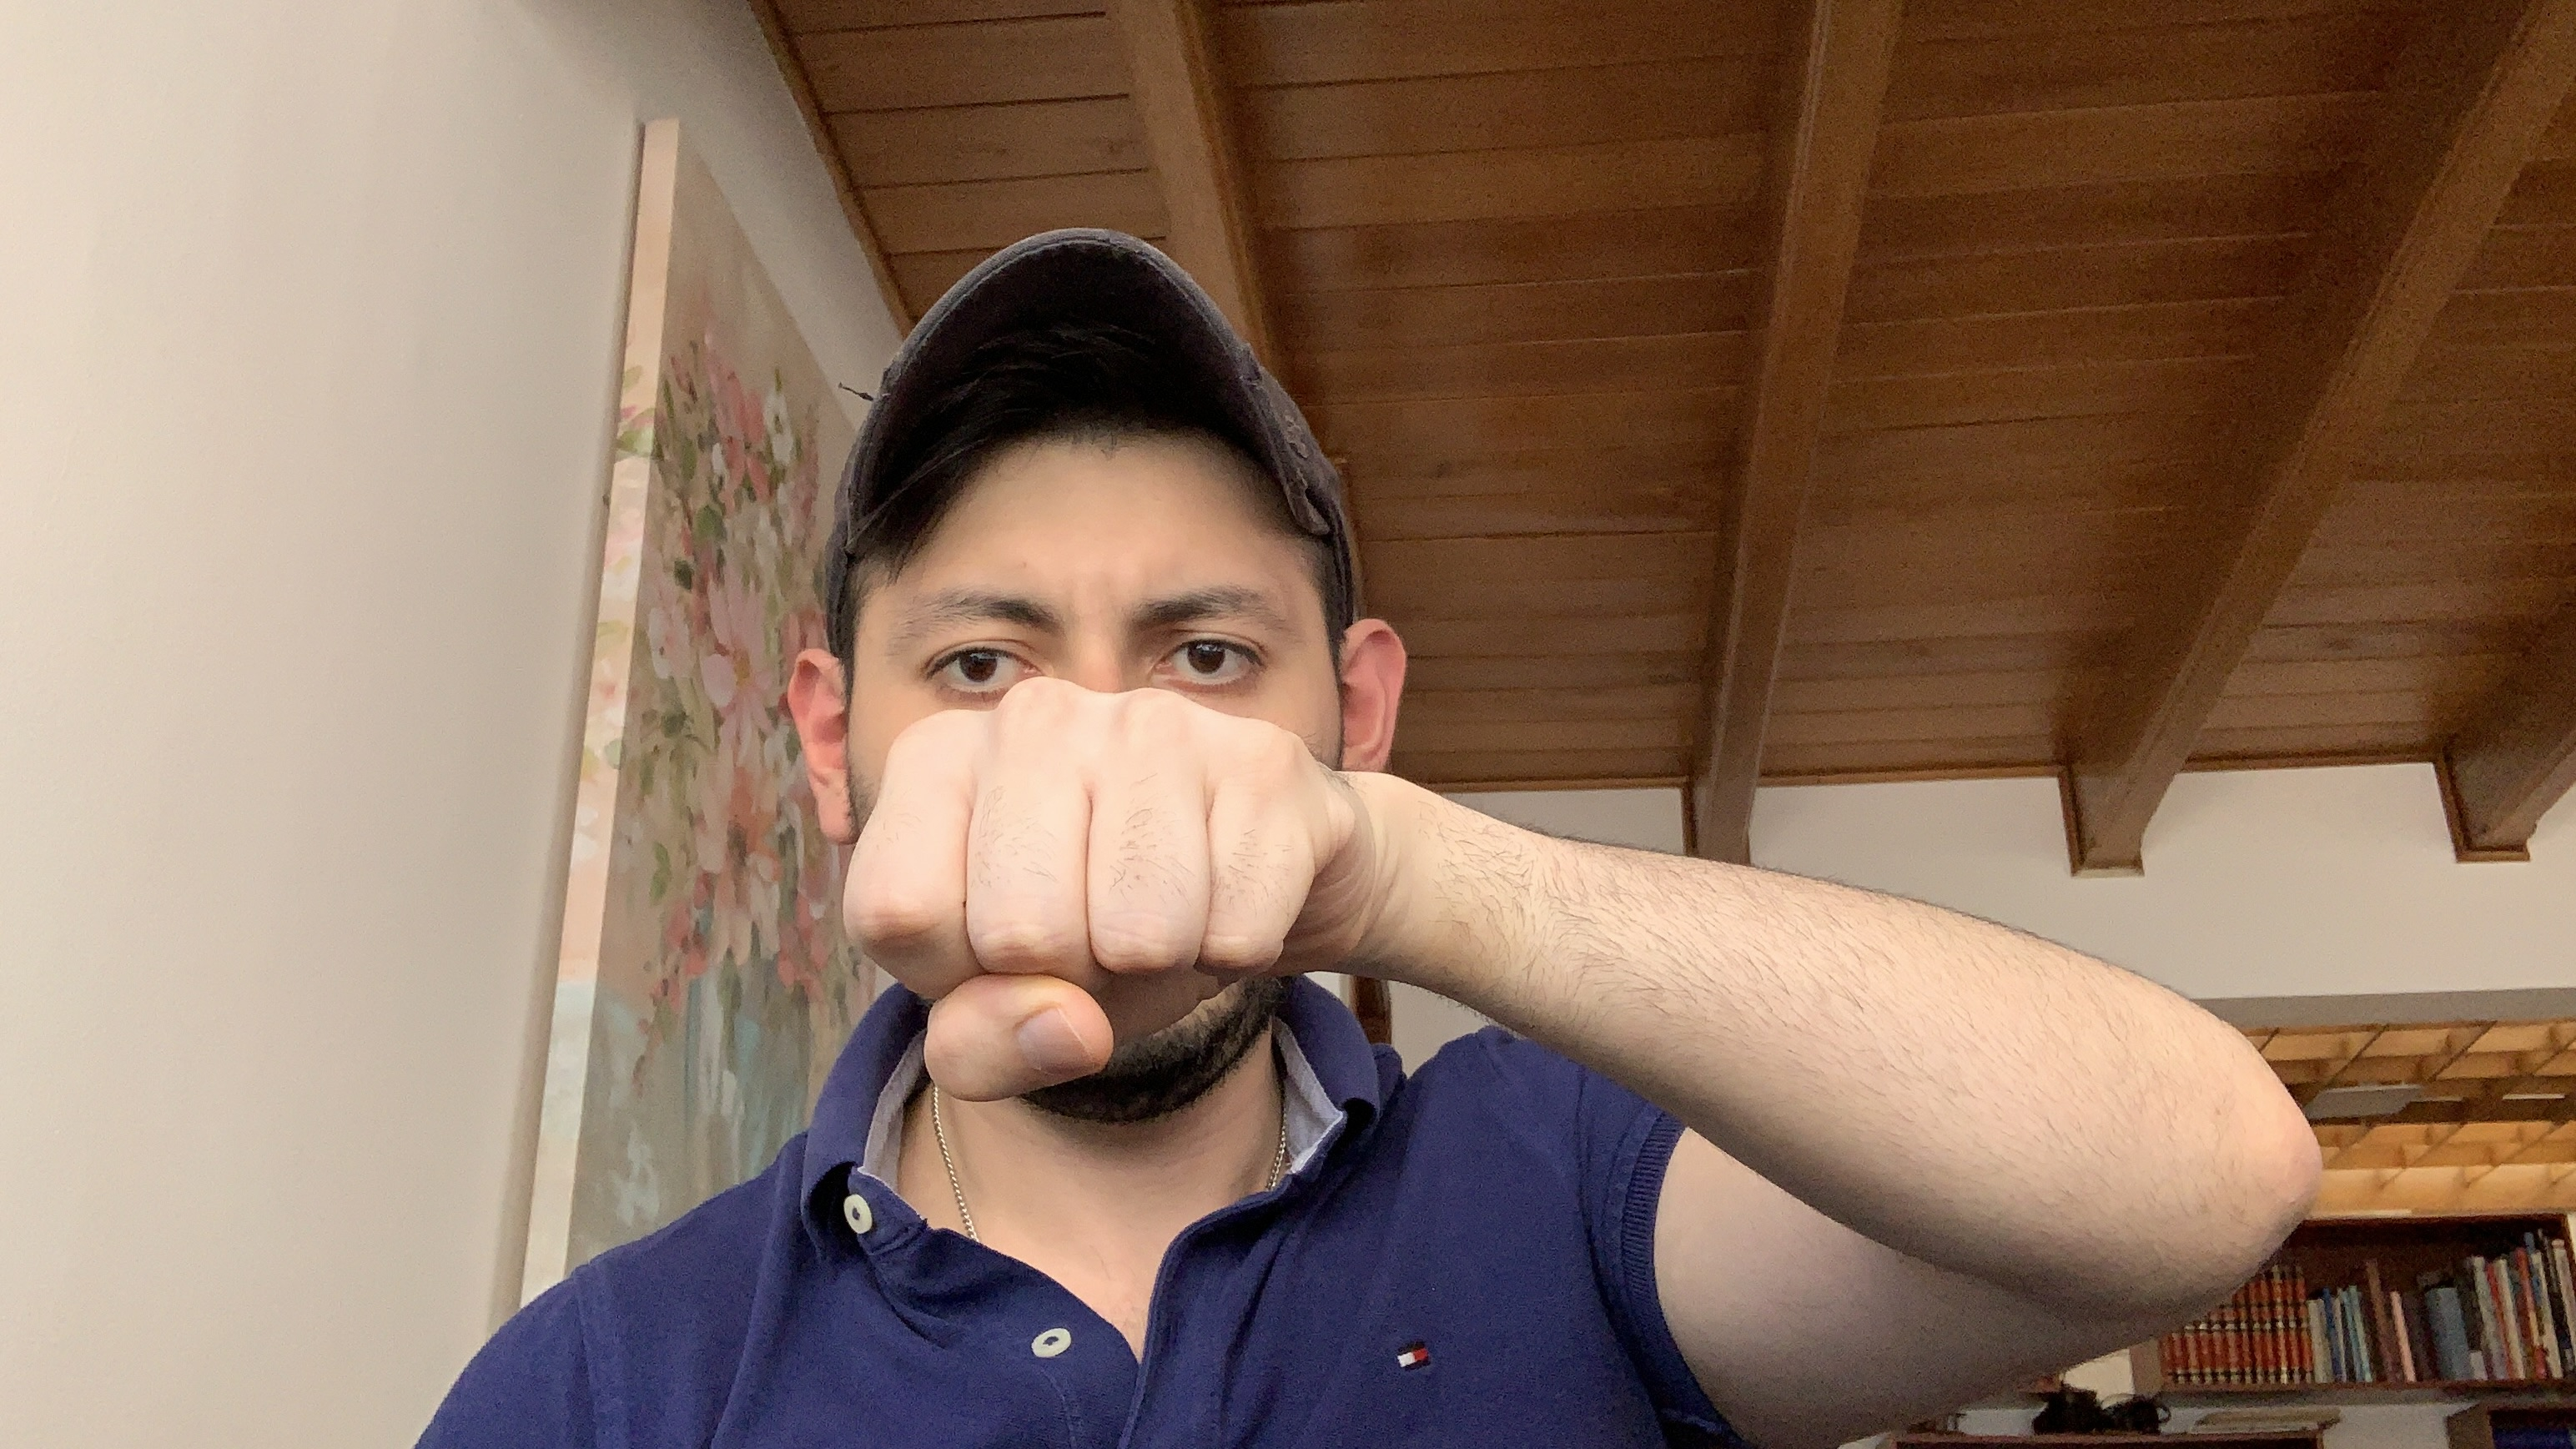Yes: (830, 672, 1389, 1118)
